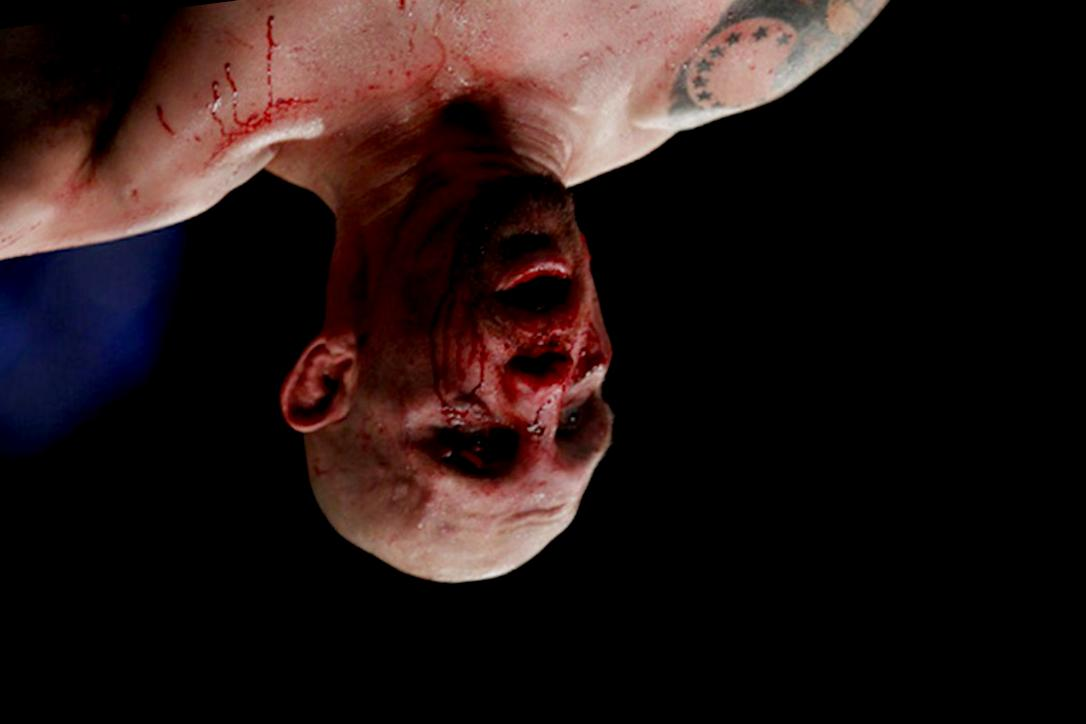Fire: (140, 0, 577, 206), (391, 205, 616, 521)
